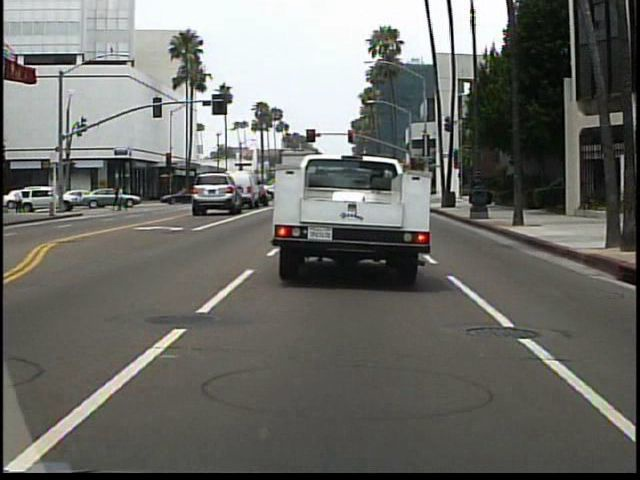person: (13, 183, 29, 215)
